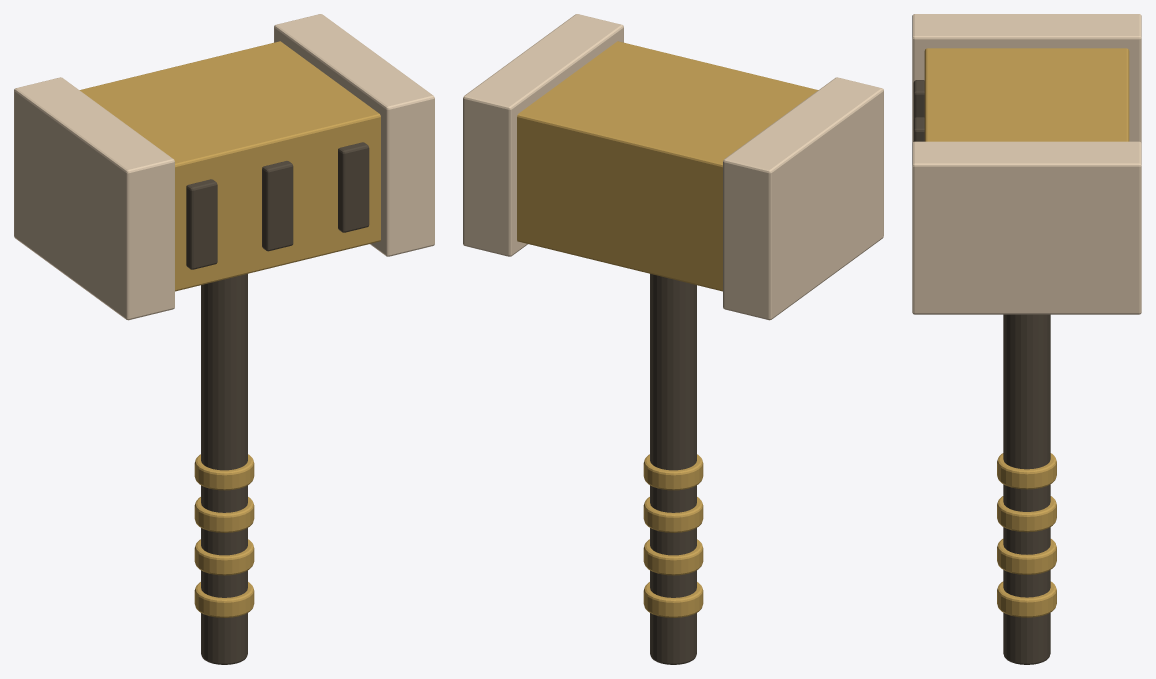
The model's file is warden-weapon-v1.glb.
The picture shows the model from 3 angles, left to right: view 1: azimuth 30°, elevation 25°; view 2: azimuth 150°, elevation 25°; view 3: azimuth 270°, elevation 25°; orthographic projection.
Parts seen in each view (by area): view 1: Mission1_warden-weapon; view 2: Mission1_warden-weapon; view 3: Mission1_warden-weapon.
Part boxes in pixels (x1,y1,x2,y2): Mission1_warden-weapon: (14, 14, 434, 664); Mission1_warden-weapon: (463, 14, 883, 664); Mission1_warden-weapon: (912, 14, 1141, 664).
Bounding box in the file's own units: 1.14 × 1.99 × 0.73.
